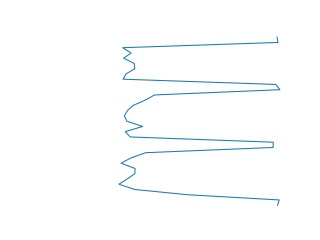majorRiverChannelBar: (116, 37, 285, 205)
